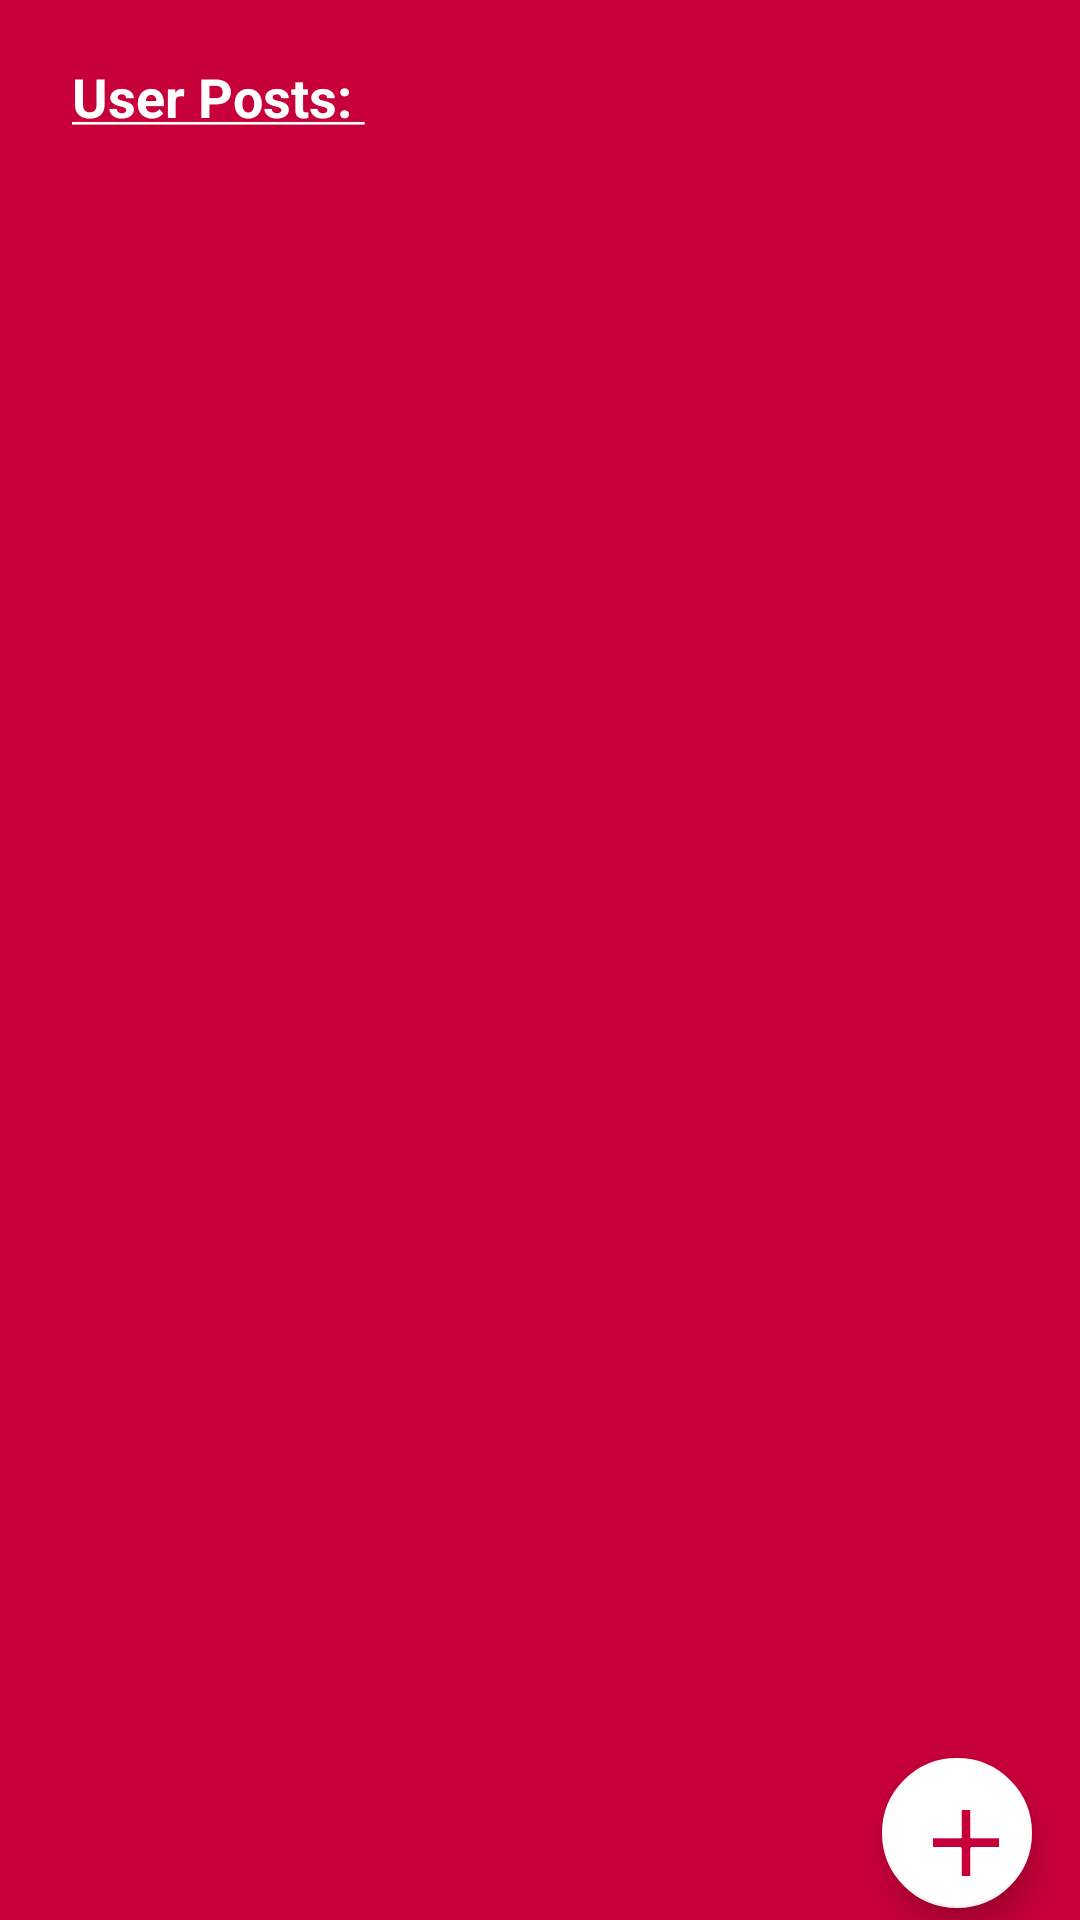

Named icons in this screenshot (1080 x 1920) and their centers, (x,y):
add web: (957,1833)
